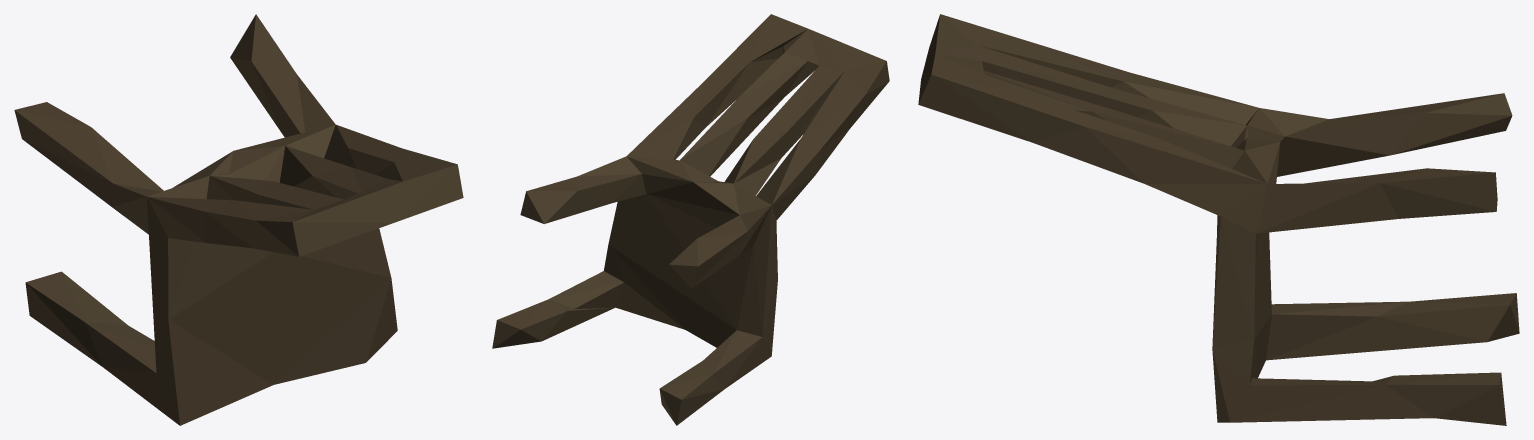
File: chair.fbx
3 views of the same model, side by side, from view 1: azimuth 30°, elevation 25°; view 2: azimuth 150°, elevation 25°; view 3: azimuth 270°, elevation 25° (orthographic). The views are drawn at different scales.
Visible parts, largest first — view 1: Layer_3_1; view 2: Layer_3_1; view 3: Layer_3_1.
Part boxes in pixels (x1=…): Layer_3_1: x1=14, y1=14, x2=463, y2=425; Layer_3_1: x1=492, y1=14, x2=889, y2=425; Layer_3_1: x1=918, y1=14, x2=1519, y2=425.
Bounding box in the file's own units: 112 × 127 × 198.
